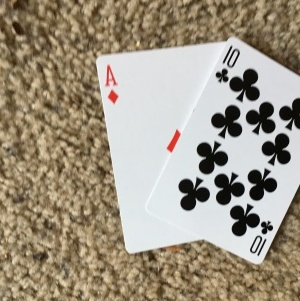card: (92, 49, 207, 252)
